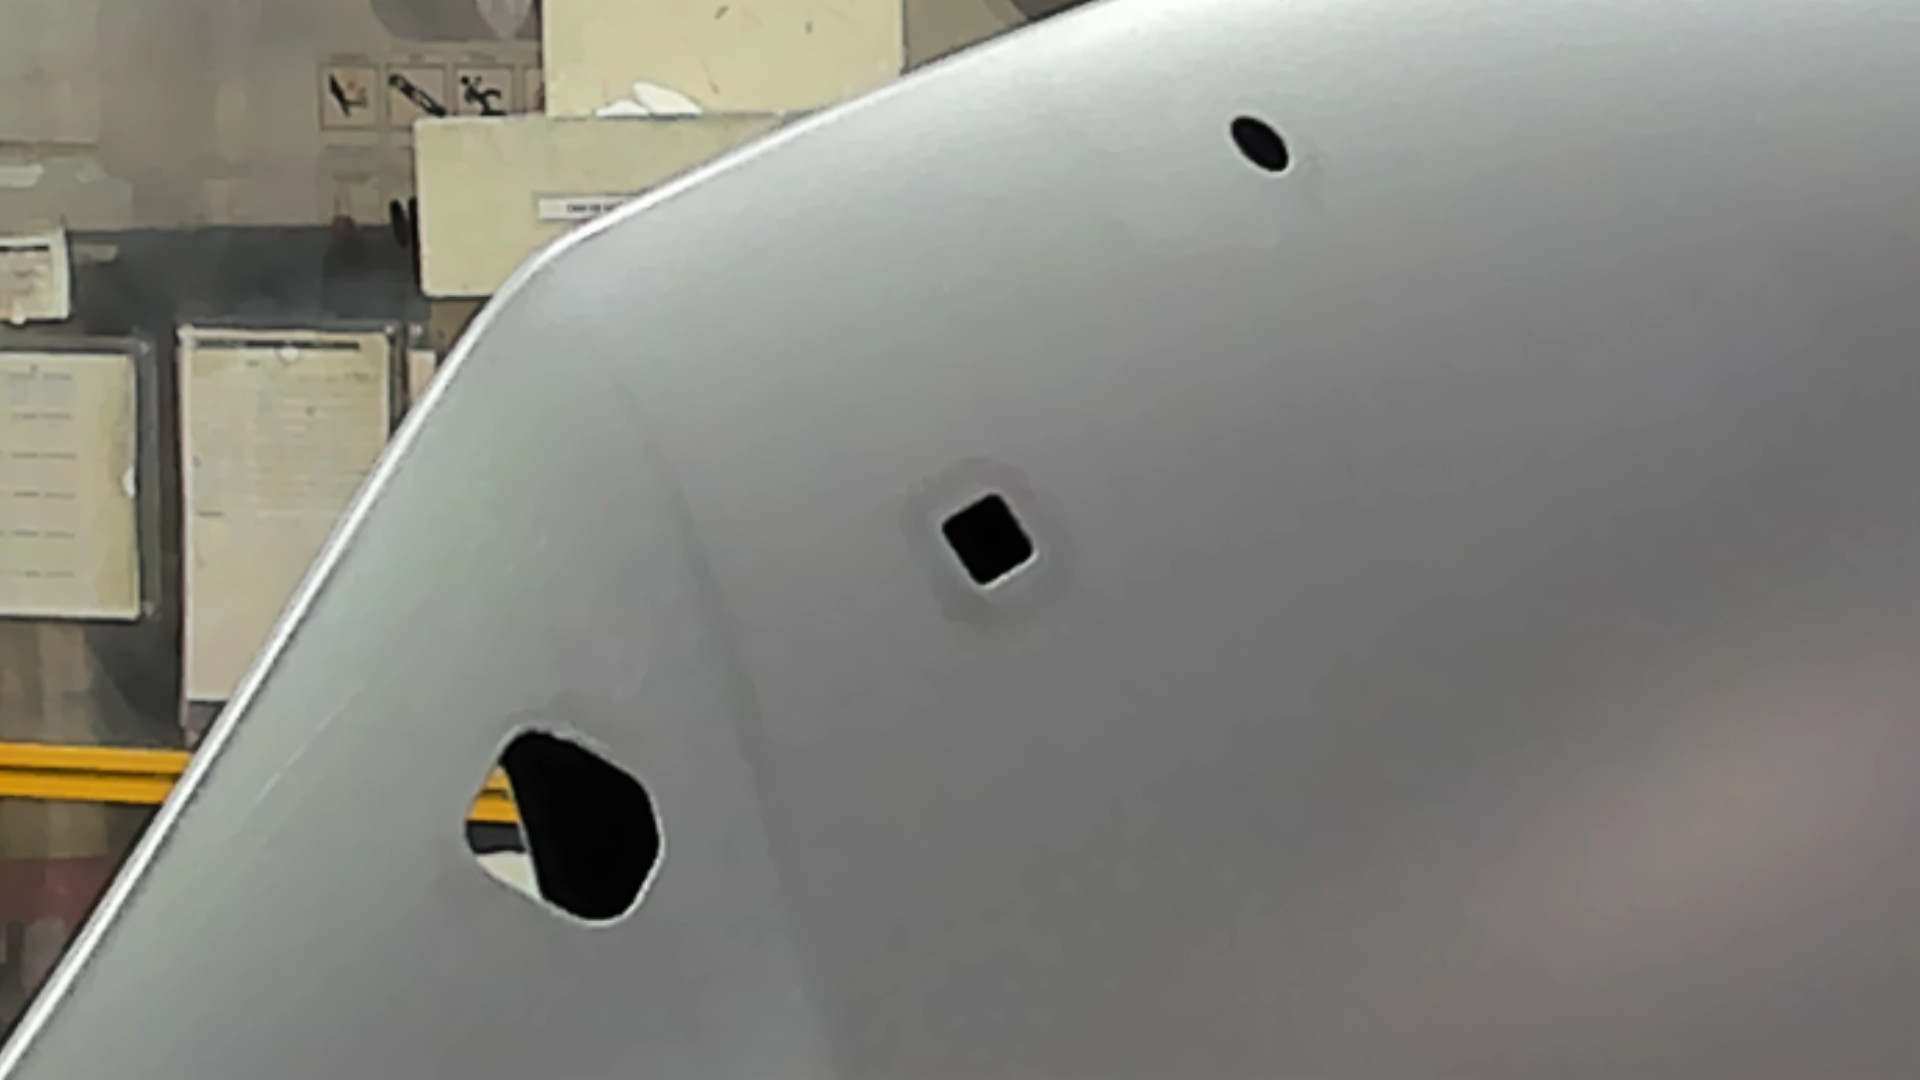chico: (1225, 109, 1298, 181)
grande: (459, 719, 669, 931)
mediano: (936, 487, 1042, 595)
